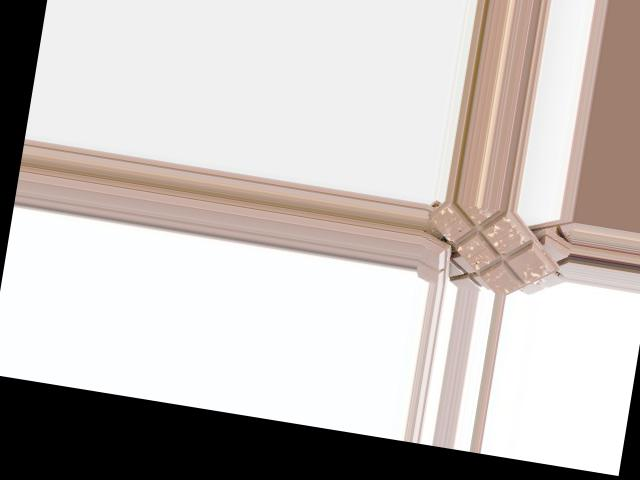chocolate: (420, 198, 557, 300)
